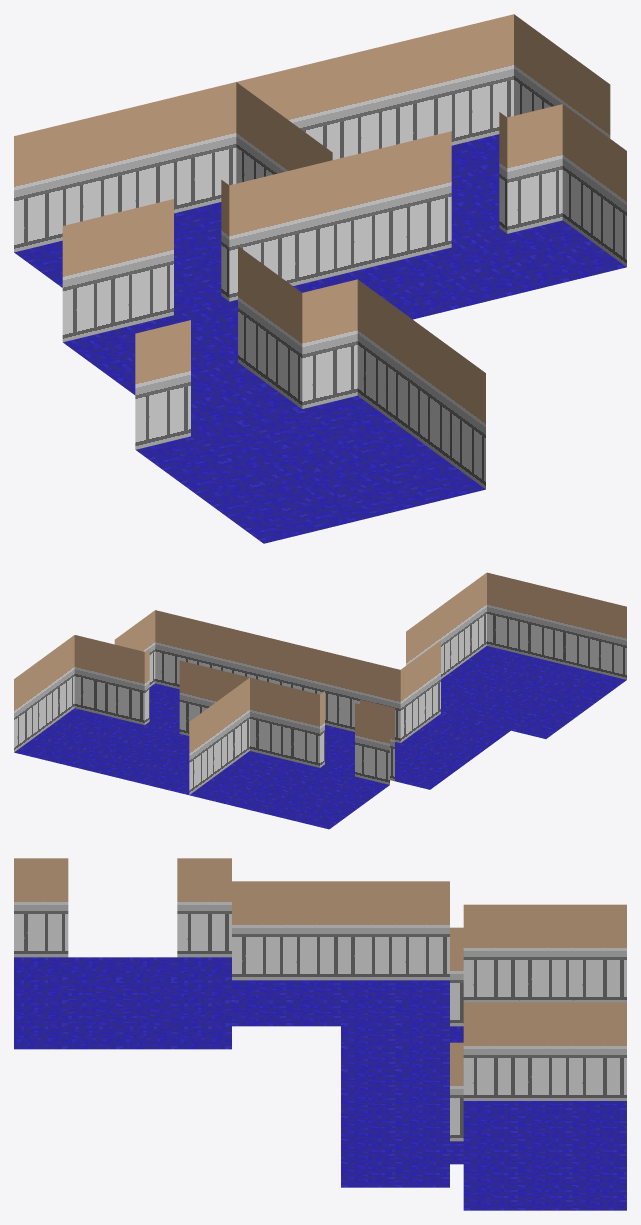
The model's file is SampleRoom.gltf.
3 renders of one model, top to bottom at view 1: azimuth 30°, elevation 25°; view 2: azimuth 150°, elevation 25°; view 3: azimuth 270°, elevation 25°, orthographic. The views are drawn at different scales.
Parts seen in each view (by area): view 1: default; view 2: default; view 3: default.
Part boxes in pixels (box(x1,y1,x2,y2)): default: box(14, 14, 626, 543); default: box(14, 572, 626, 829); default: box(14, 858, 626, 1210).
Size of the model in its own units: 11 by 2 by 11.25.
3 materials, 3 textured.
